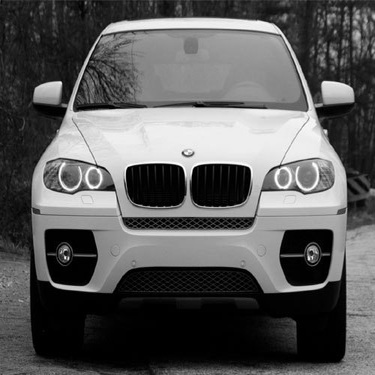car: (19, 13, 365, 365)
